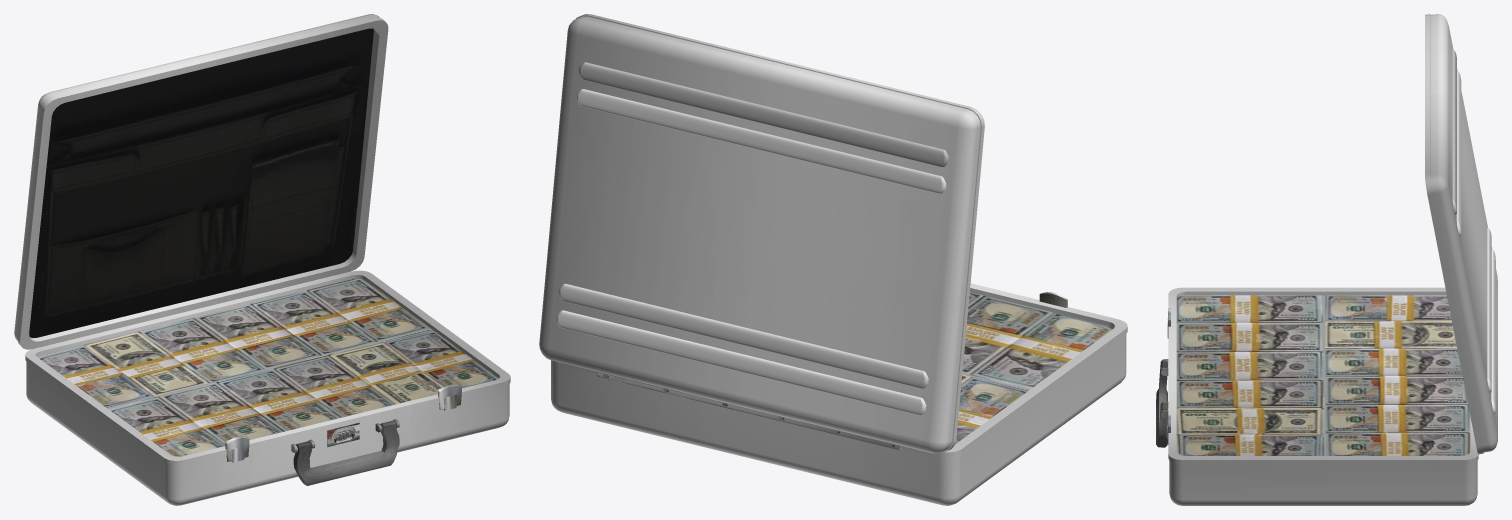
Rendered from cash_case_open.glb.
3 views of the same model, side by side, from view 1: azimuth 30°, elevation 25°; view 2: azimuth 150°, elevation 25°; view 3: azimuth 270°, elevation 25° (orthographic). The views are drawn at different scales.
Parts seen in each view (by area): view 1: cash_case_open; view 2: cash_case_open; view 3: cash_case_open.
Part boxes in pixels (<box>): cash_case_open: <box>14,14,510,505</box>; cash_case_open: <box>539,14,1127,505</box>; cash_case_open: <box>1156,14,1497,505</box>.
Size of the model in its own units: 0.46 by 0.411 by 0.3842.
2 materials, 2 textured.
